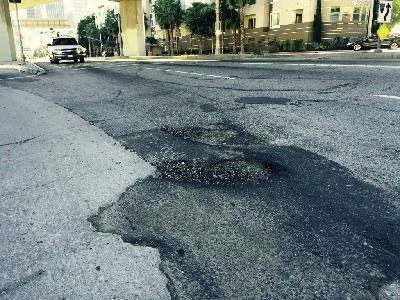pothole: (148, 155, 275, 189), (157, 123, 241, 145)
